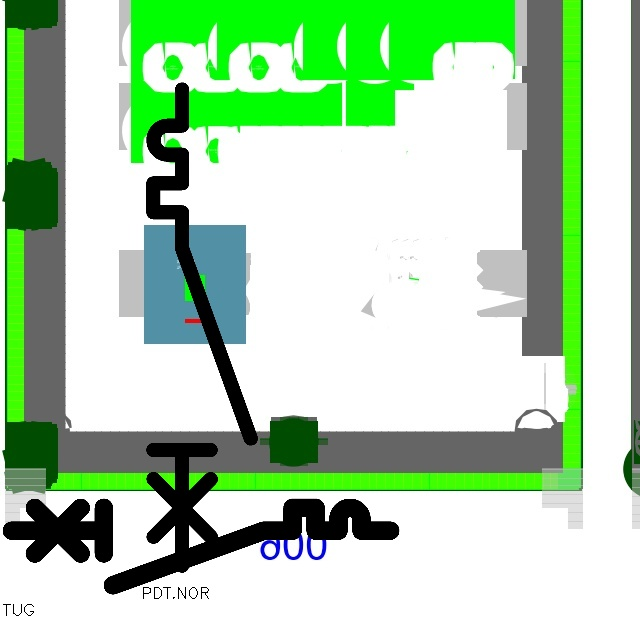interruptor_termomagnetico: (141, 77, 263, 578), (2, 498, 400, 595)
